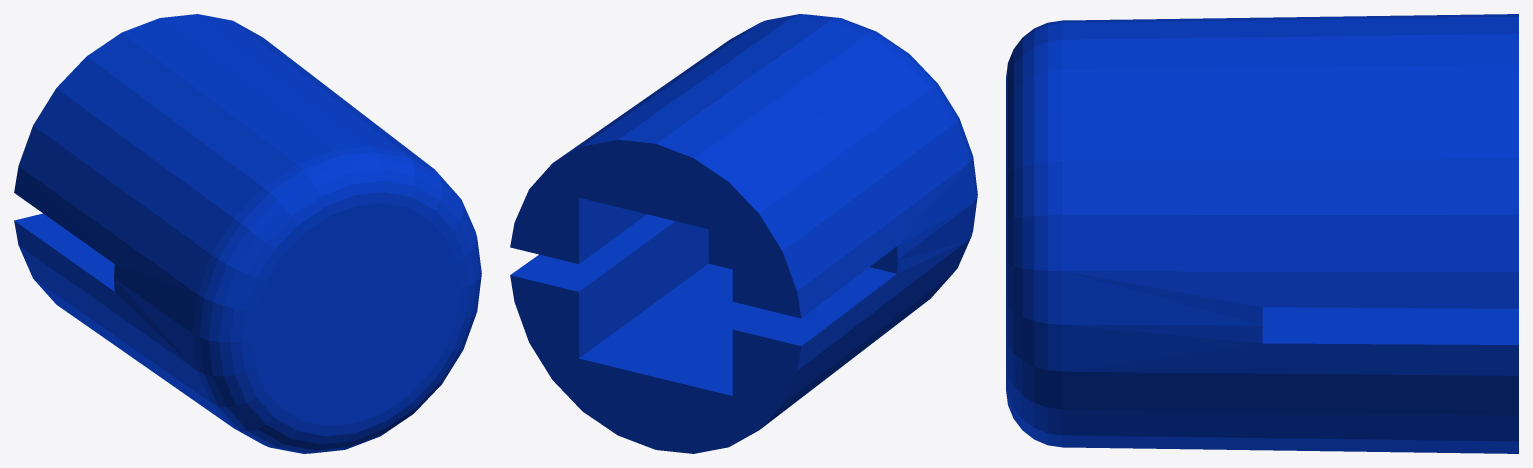
Rendered from ESWITCH_TL3301SPF160QGBLU_Varsay_01_ESWITCH_TL3301SPF160QGBLU_Varsay.obj.
The picture shows the model from 3 angles, left to right: view 1: azimuth 30°, elevation 25°; view 2: azimuth 150°, elevation 25°; view 3: azimuth 270°, elevation 25°; orthographic projection. The views are drawn at different scales.
Size of the model in its own units: 0.00506 by 0.00508 by 0.0059.
